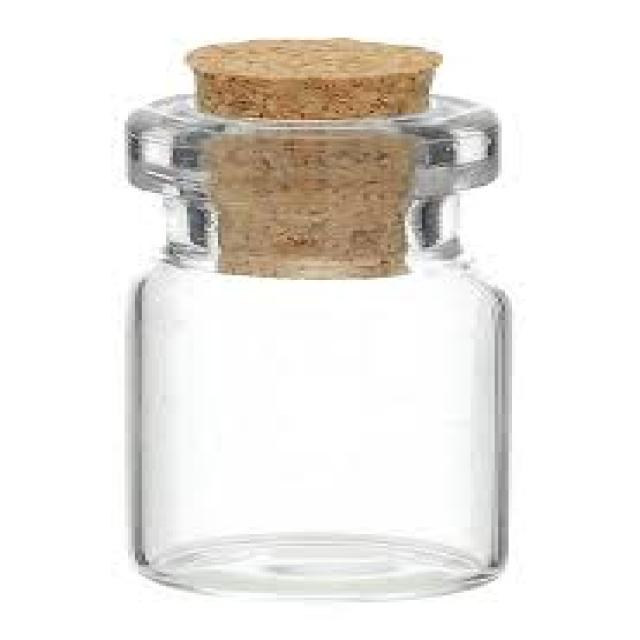glass: (121, 92, 505, 595)
